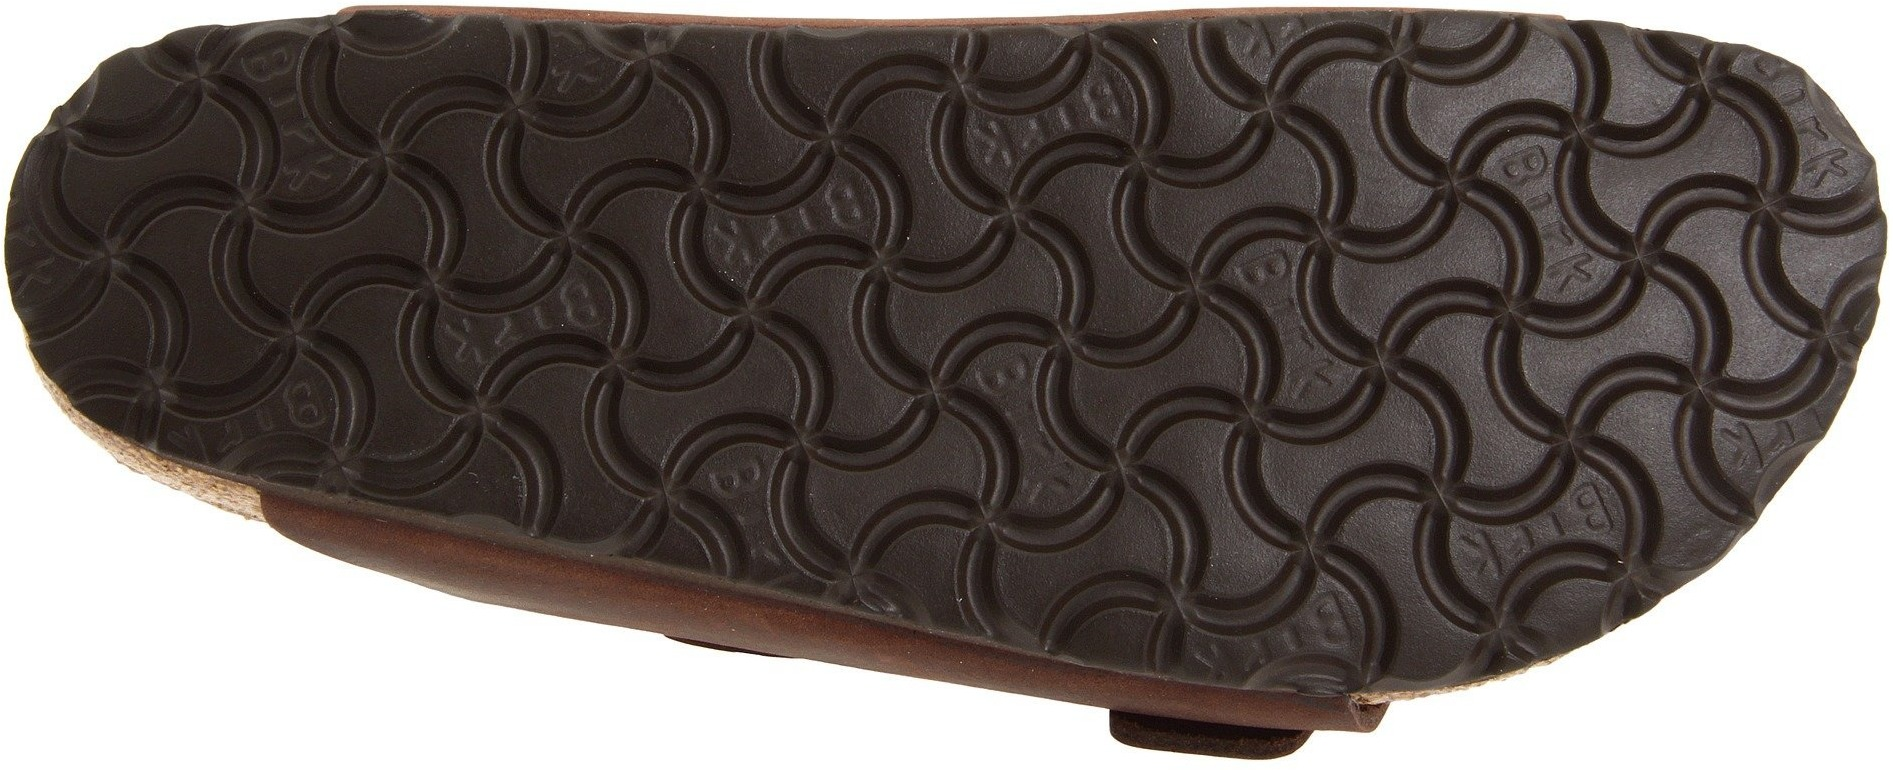bowtie: (357, 35, 720, 358), (66, 97, 348, 377), (997, 291, 1276, 554), (730, 308, 994, 564), (1285, 294, 1533, 550), (1218, 25, 1462, 281), (732, 43, 968, 301), (975, 35, 1204, 282), (1470, 42, 1708, 267), (1542, 273, 1767, 488), (544, 363, 718, 533)
